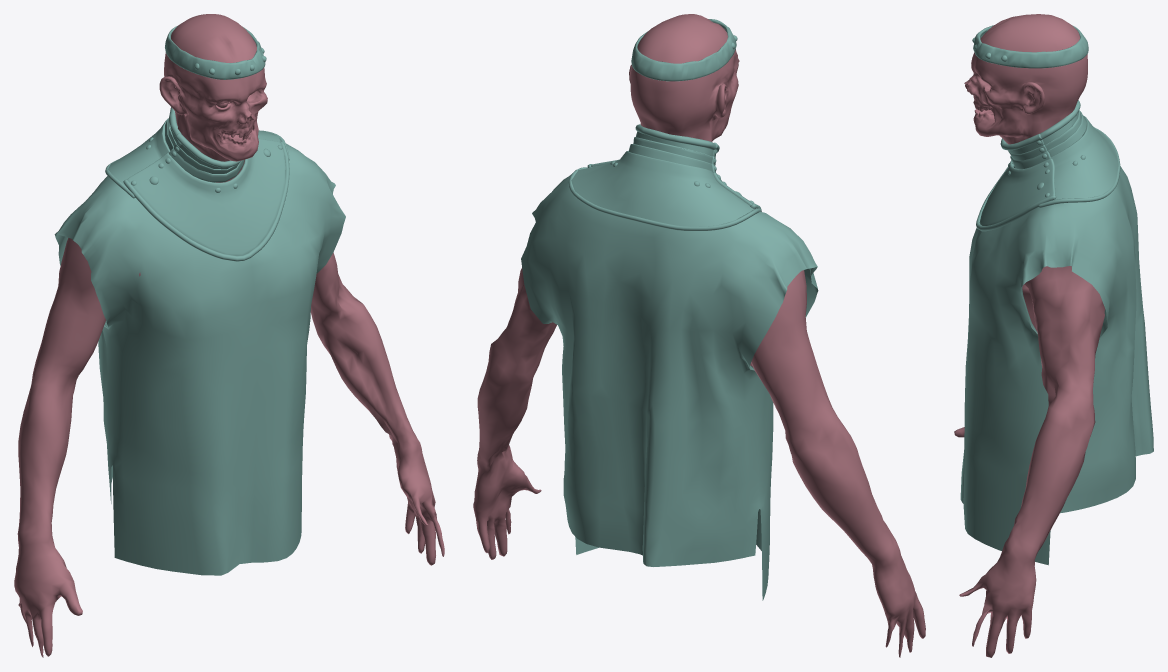
File: SK_Lich_01.fbx
The picture shows the model from 3 angles, left to right: view 1: azimuth 30°, elevation 25°; view 2: azimuth 150°, elevation 25°; view 3: azimuth 270°, elevation 25°; orthographic projection. The views are drawn at different scales.
Parts seen in each view (by area): view 1: ClothA_low, BodyC_low, GorgetC_low, BodyA_low, ClothB_low, GorgetD_low; view 2: ClothA_low, BodyC_low, GorgetC_low, BodyA_low, ClothB_low, GorgetE_low; view 3: ClothA_low, BodyC_low, BodyA_low, GorgetC_low, ClothB_low, GorgetD_low, GorgetE_low, GorgetB_low, GorgetA_low.
Boxes of the visible parts, box(x1,y1,x2,y2) form: ClothA_low: box(54, 143, 345, 575); BodyC_low: box(14, 159, 444, 657); GorgetC_low: box(108, 118, 289, 255); BodyA_low: box(159, 14, 267, 161); ClothB_low: box(165, 26, 265, 79); GorgetD_low: box(123, 141, 289, 261); ClothA_low: box(521, 174, 818, 600); BodyC_low: box(473, 268, 925, 657); GorgetC_low: box(571, 131, 756, 226); BodyA_low: box(629, 14, 739, 141); ClothB_low: box(631, 19, 736, 81); GorgetE_low: box(568, 167, 761, 230); ClothA_low: box(960, 166, 1153, 565); BodyC_low: box(954, 266, 1105, 657); BodyA_low: box(964, 14, 1087, 144); GorgetC_low: box(979, 110, 1118, 225); ClothB_low: box(973, 25, 1088, 68); GorgetD_low: box(976, 163, 1056, 231); GorgetE_low: box(1038, 127, 1120, 207); GorgetB_low: box(1040, 100, 1080, 140); GorgetA_low: box(1000, 133, 1041, 150).
Bounding box in the file's own units: 7.13 × 9.57 × 3.15.
